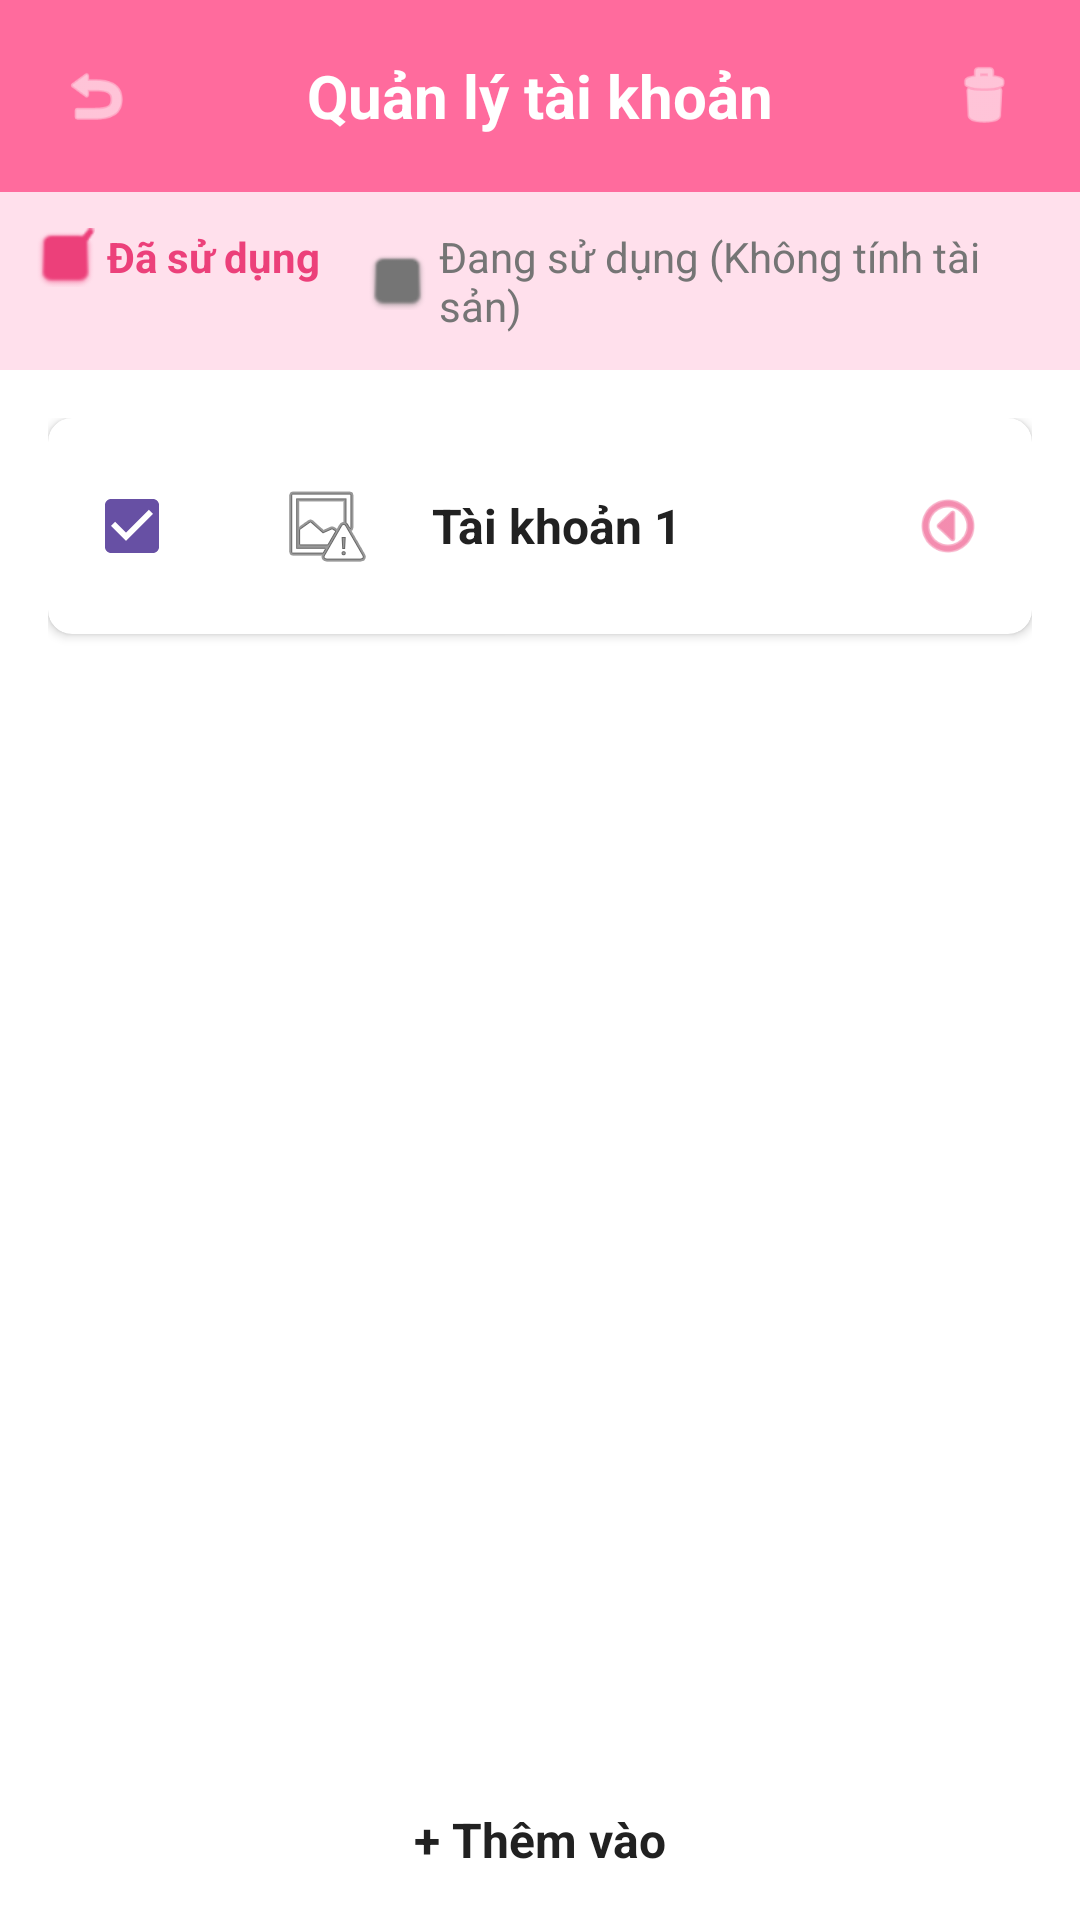

Named icons in this screenshot (1080px x 1920px) and their centers, [x,y]:
Quay lại: [97,96]
Xóa: [984,95]
